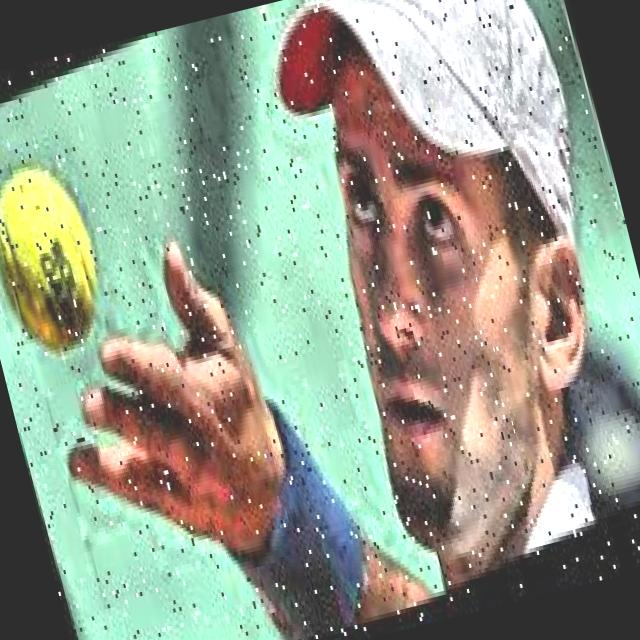tennis-ball: (0, 136, 122, 368)
